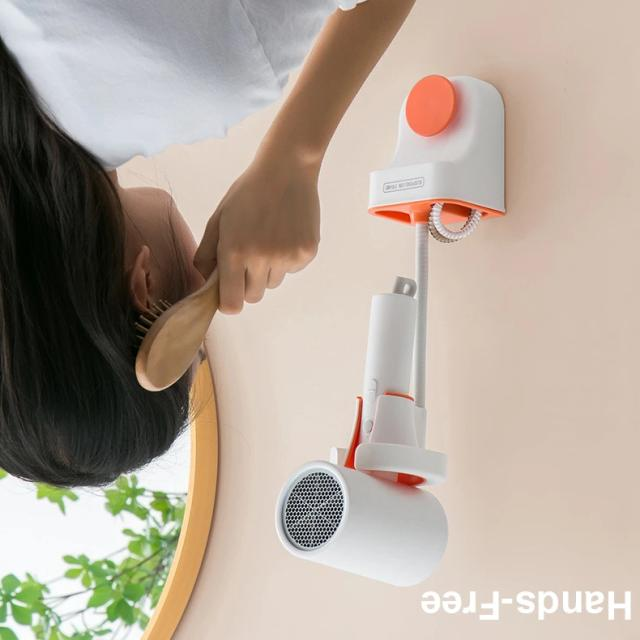dryer: (263, 243, 473, 589)
